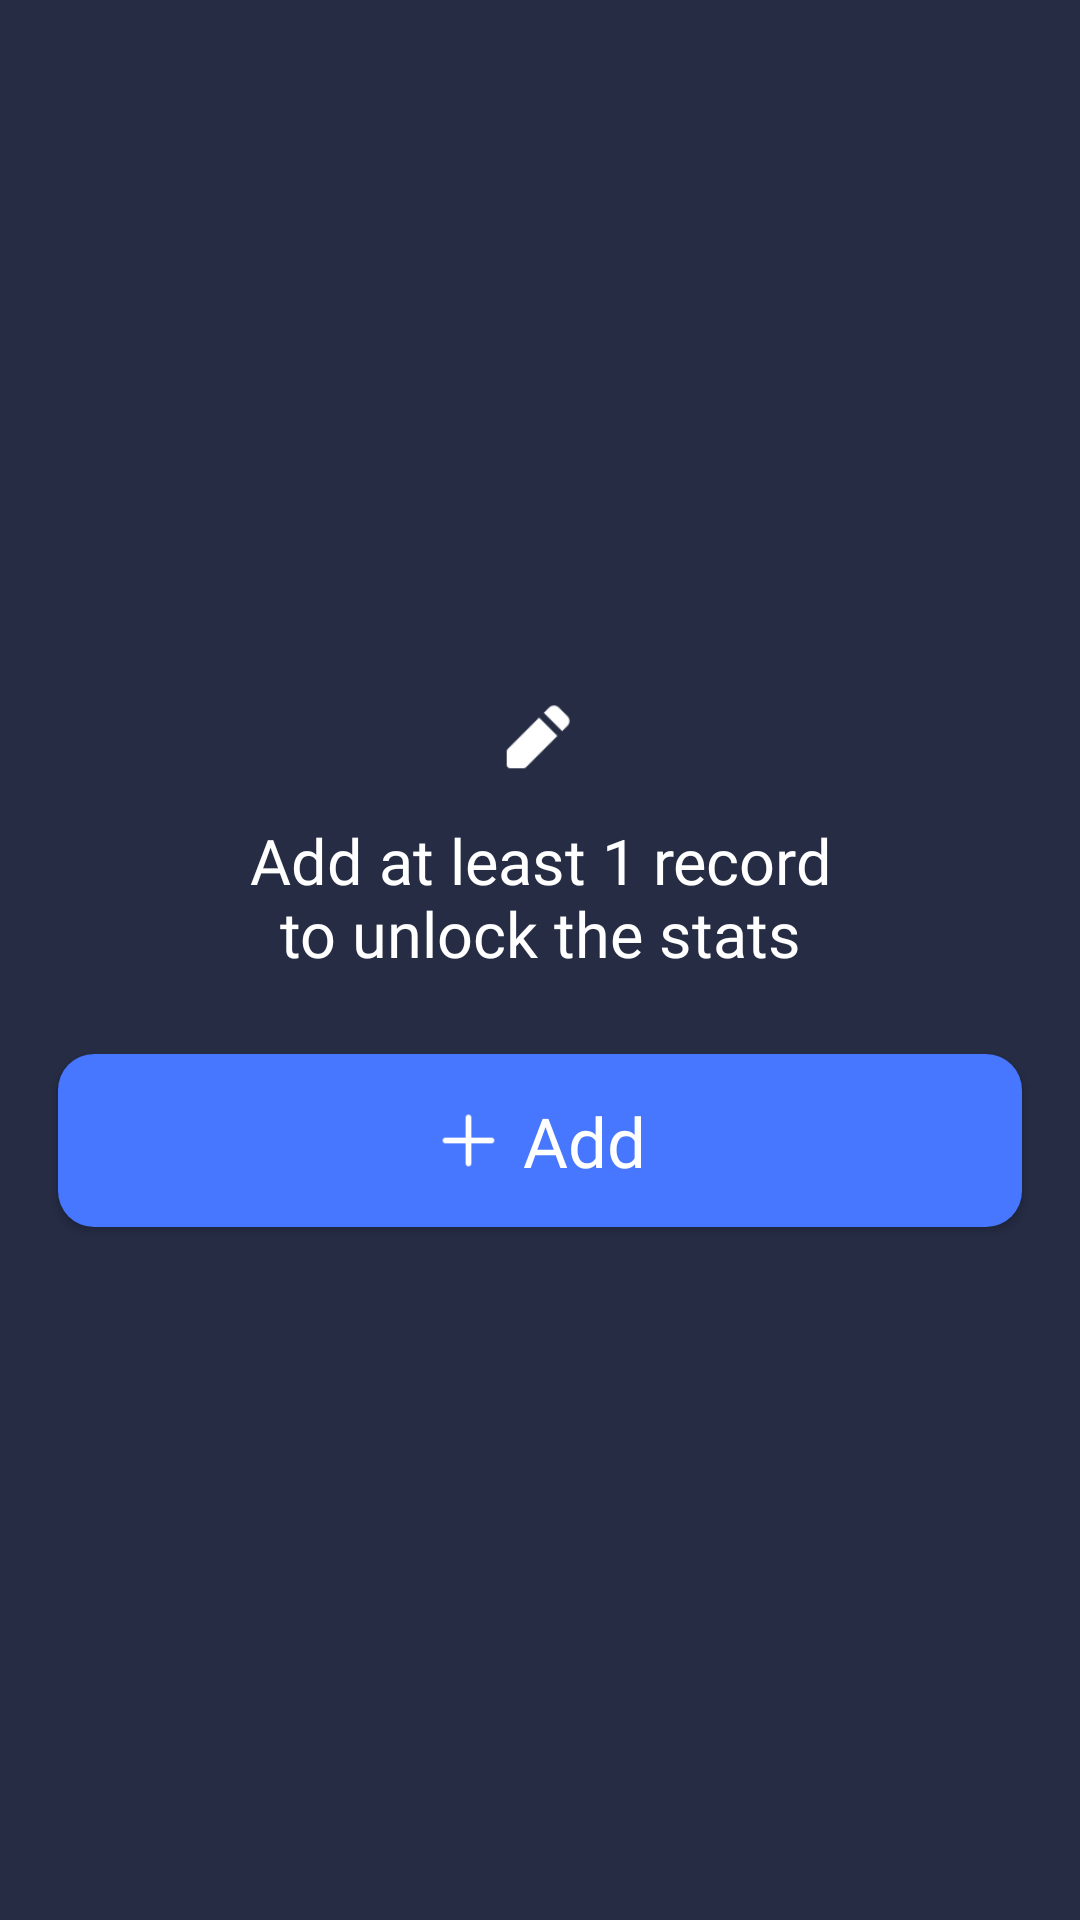

Where to tap for icons on this 1080px x 1920px app screen, as (x=x, y=y):
general add: (x=468, y=1140)
general edit: (x=538, y=737)
